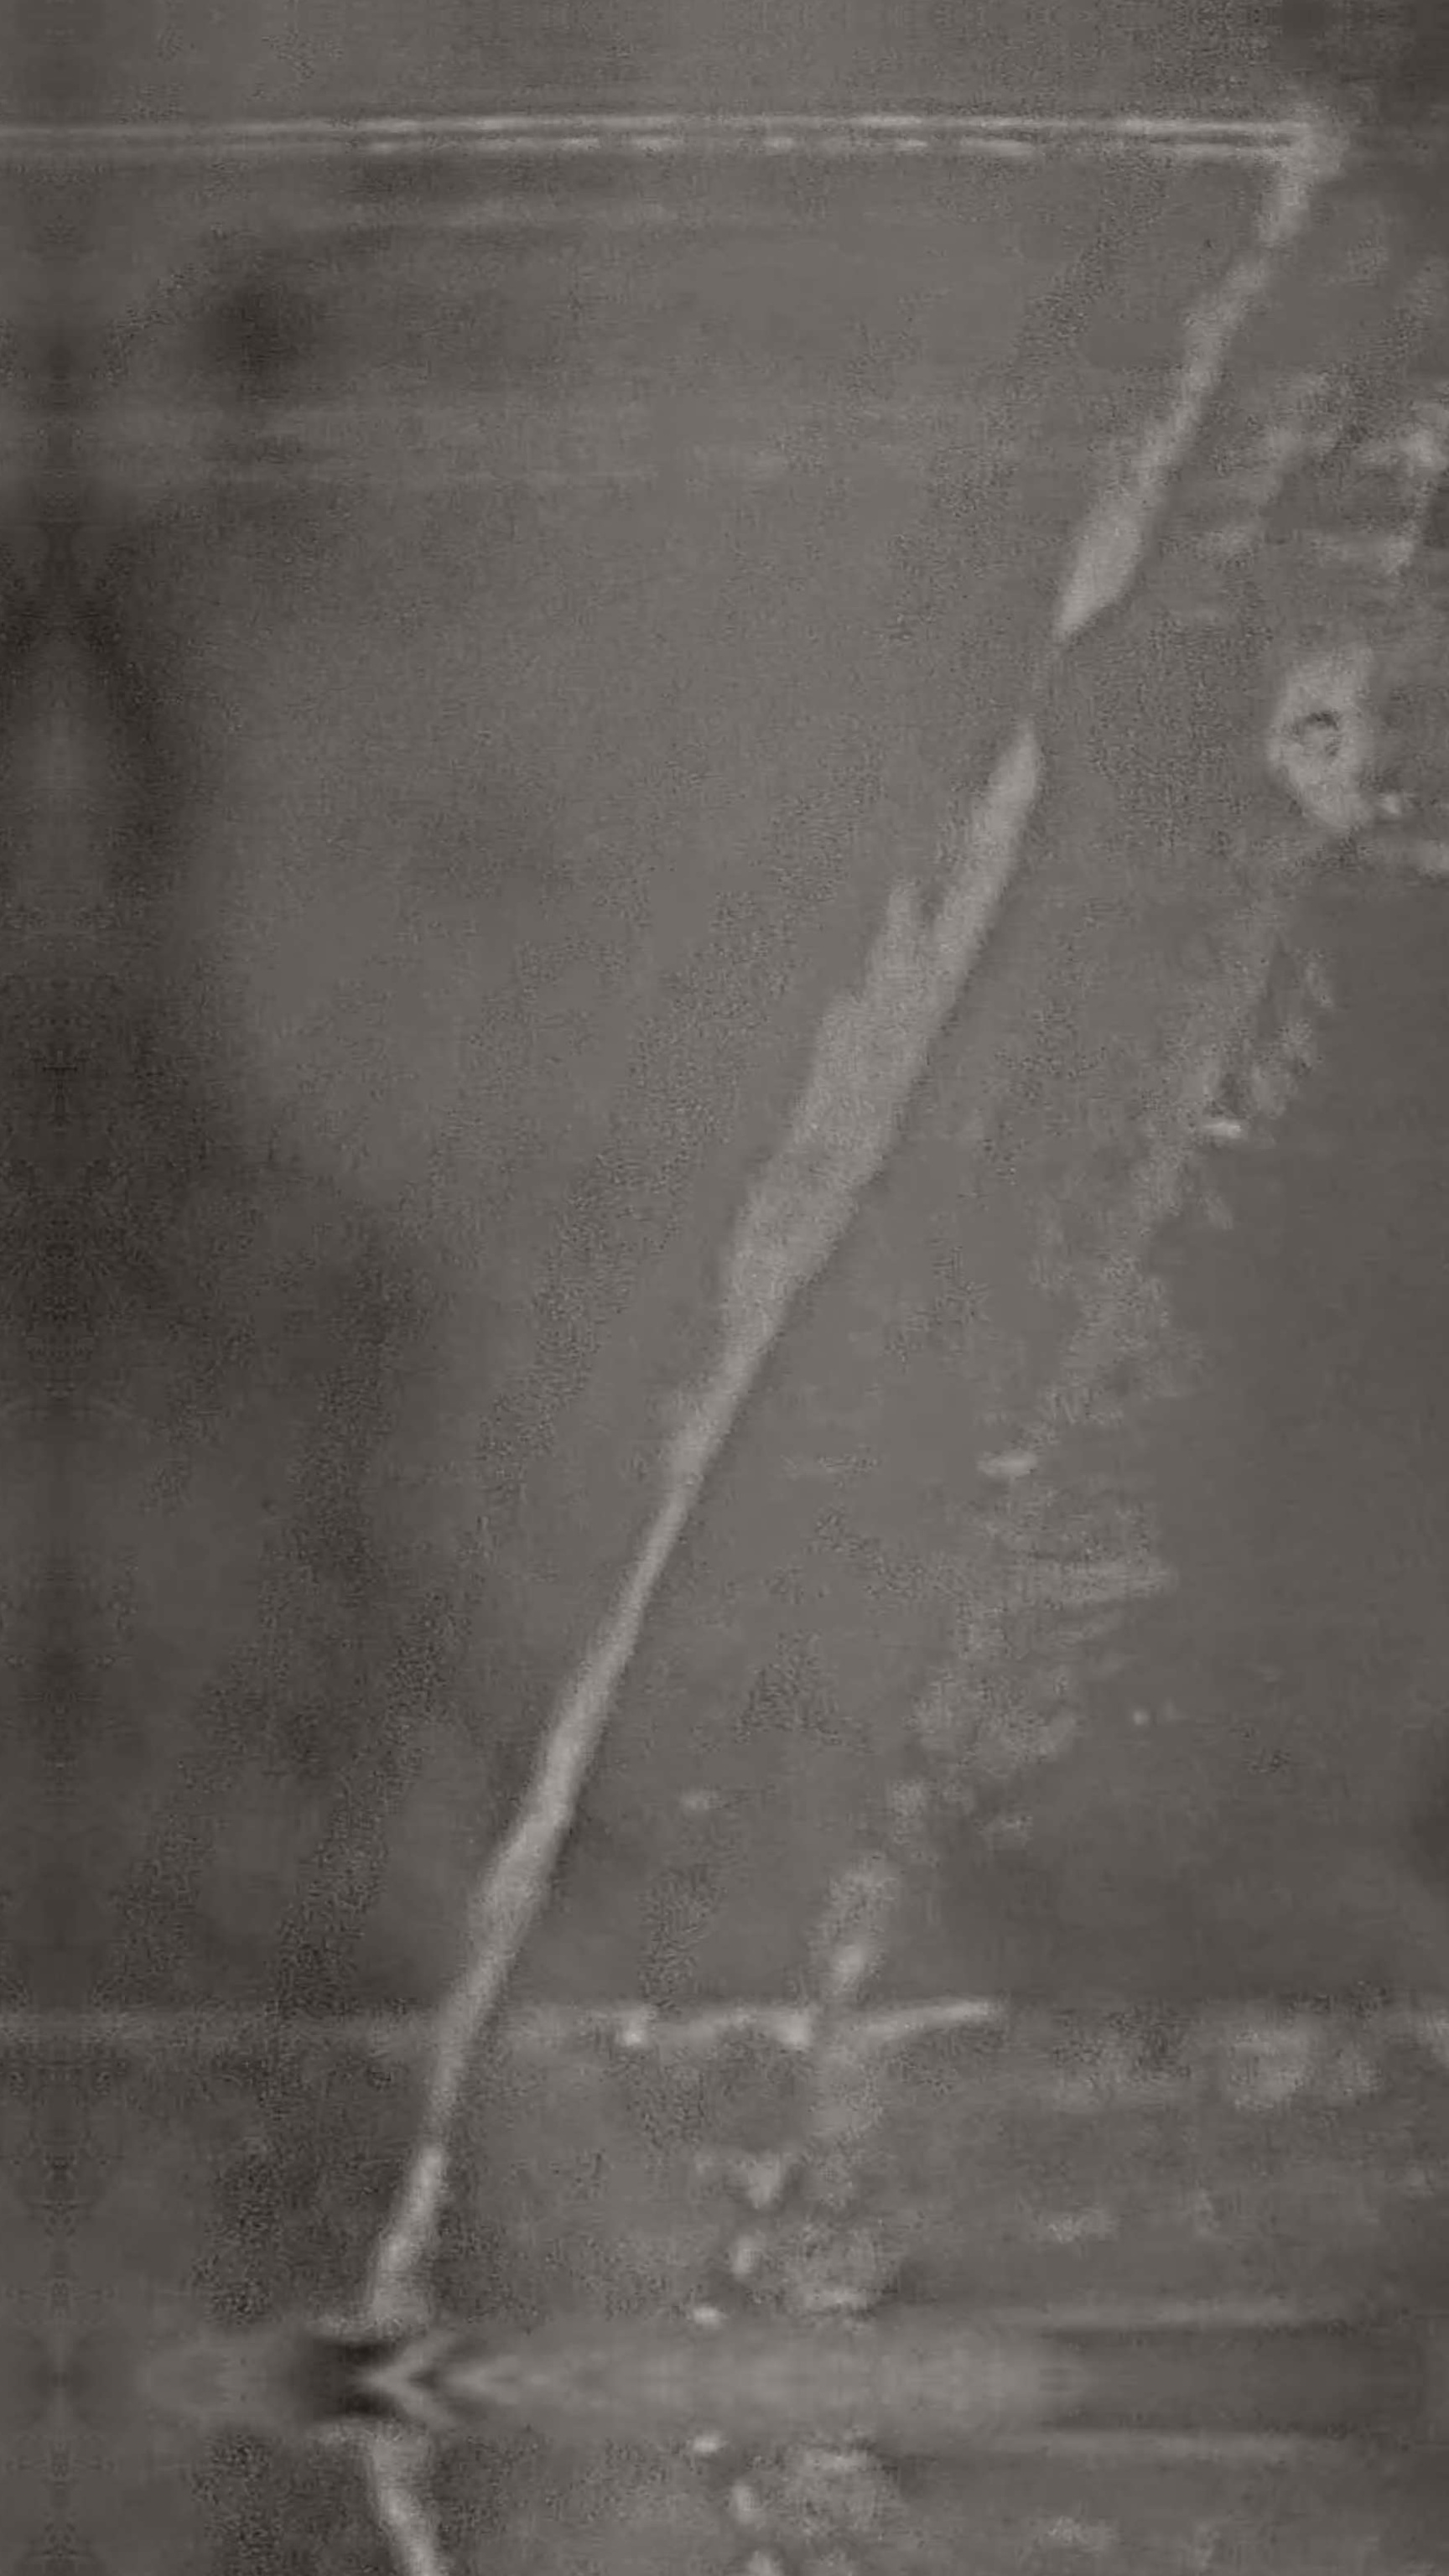splice_vulcanized: (242, 16, 1449, 2378)
